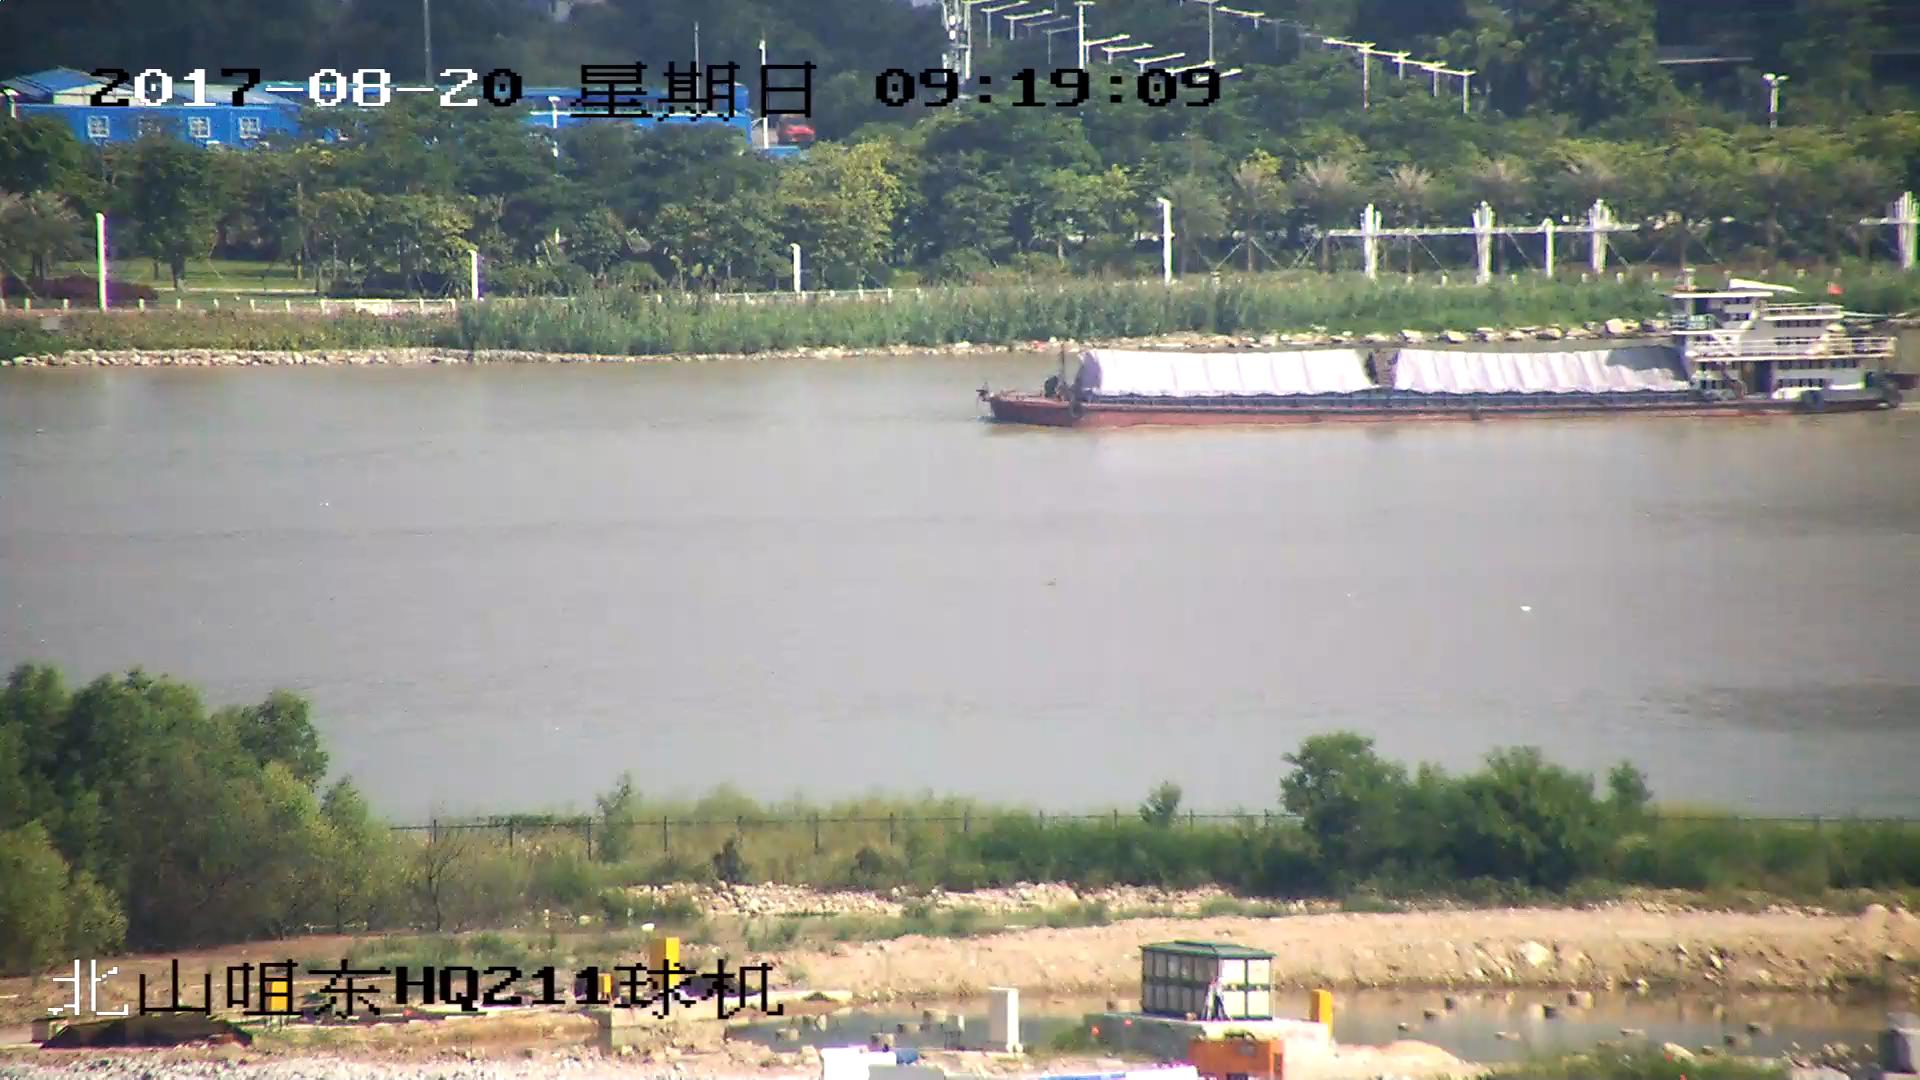general cargo ship: (971, 278, 1907, 424)
